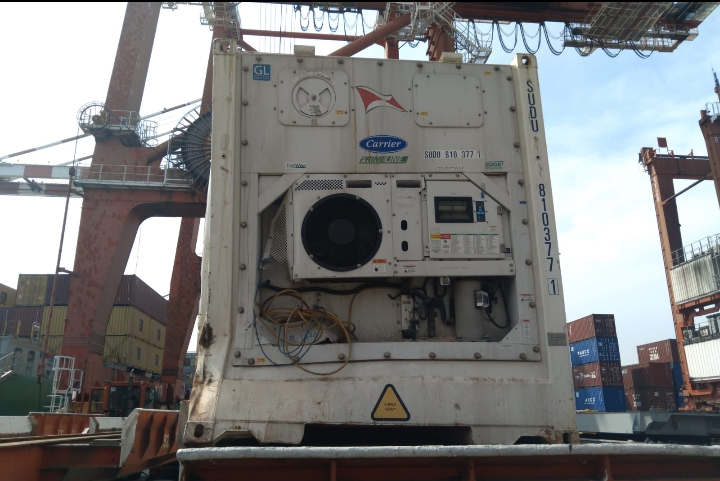dented: (185, 286, 238, 407)
